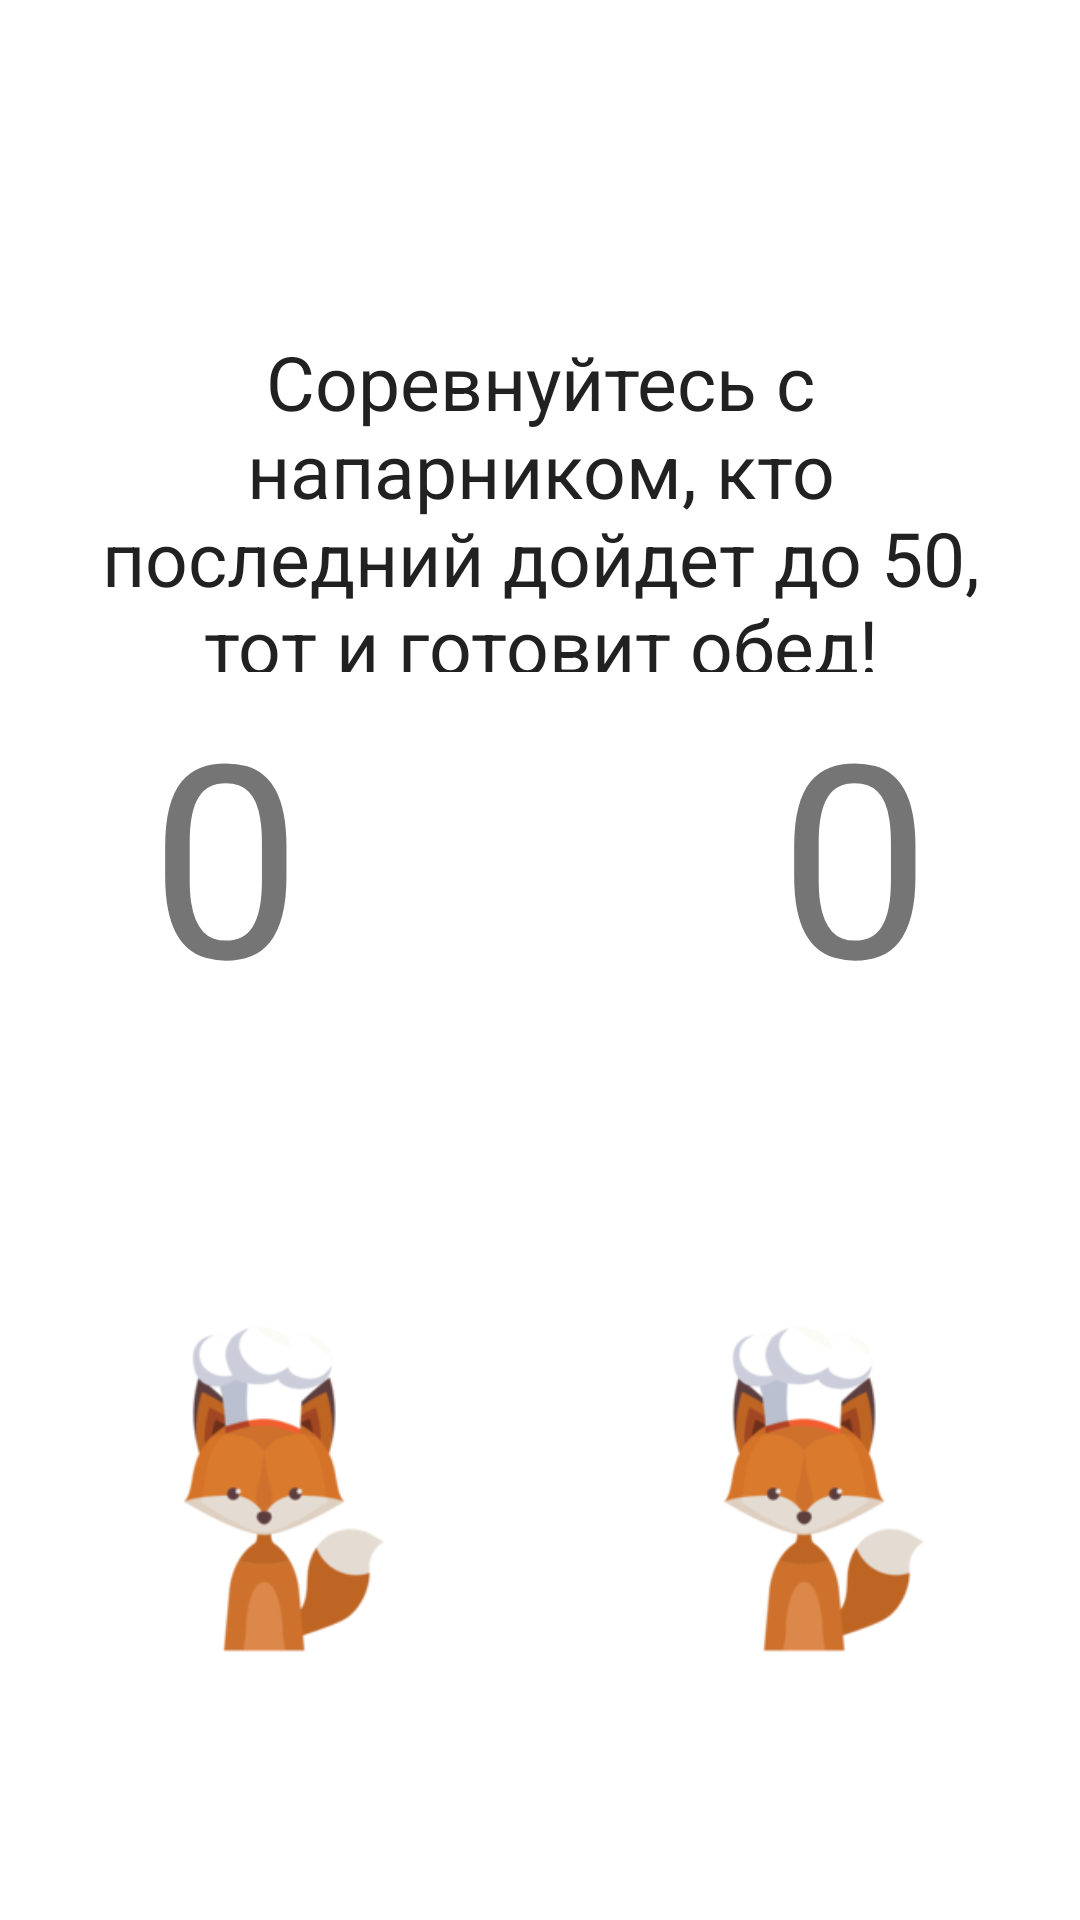

Named icons in this screenshot (1080×1920) and their centers, [x,y]:
lisapovar: [283,1491], [823,1491]
